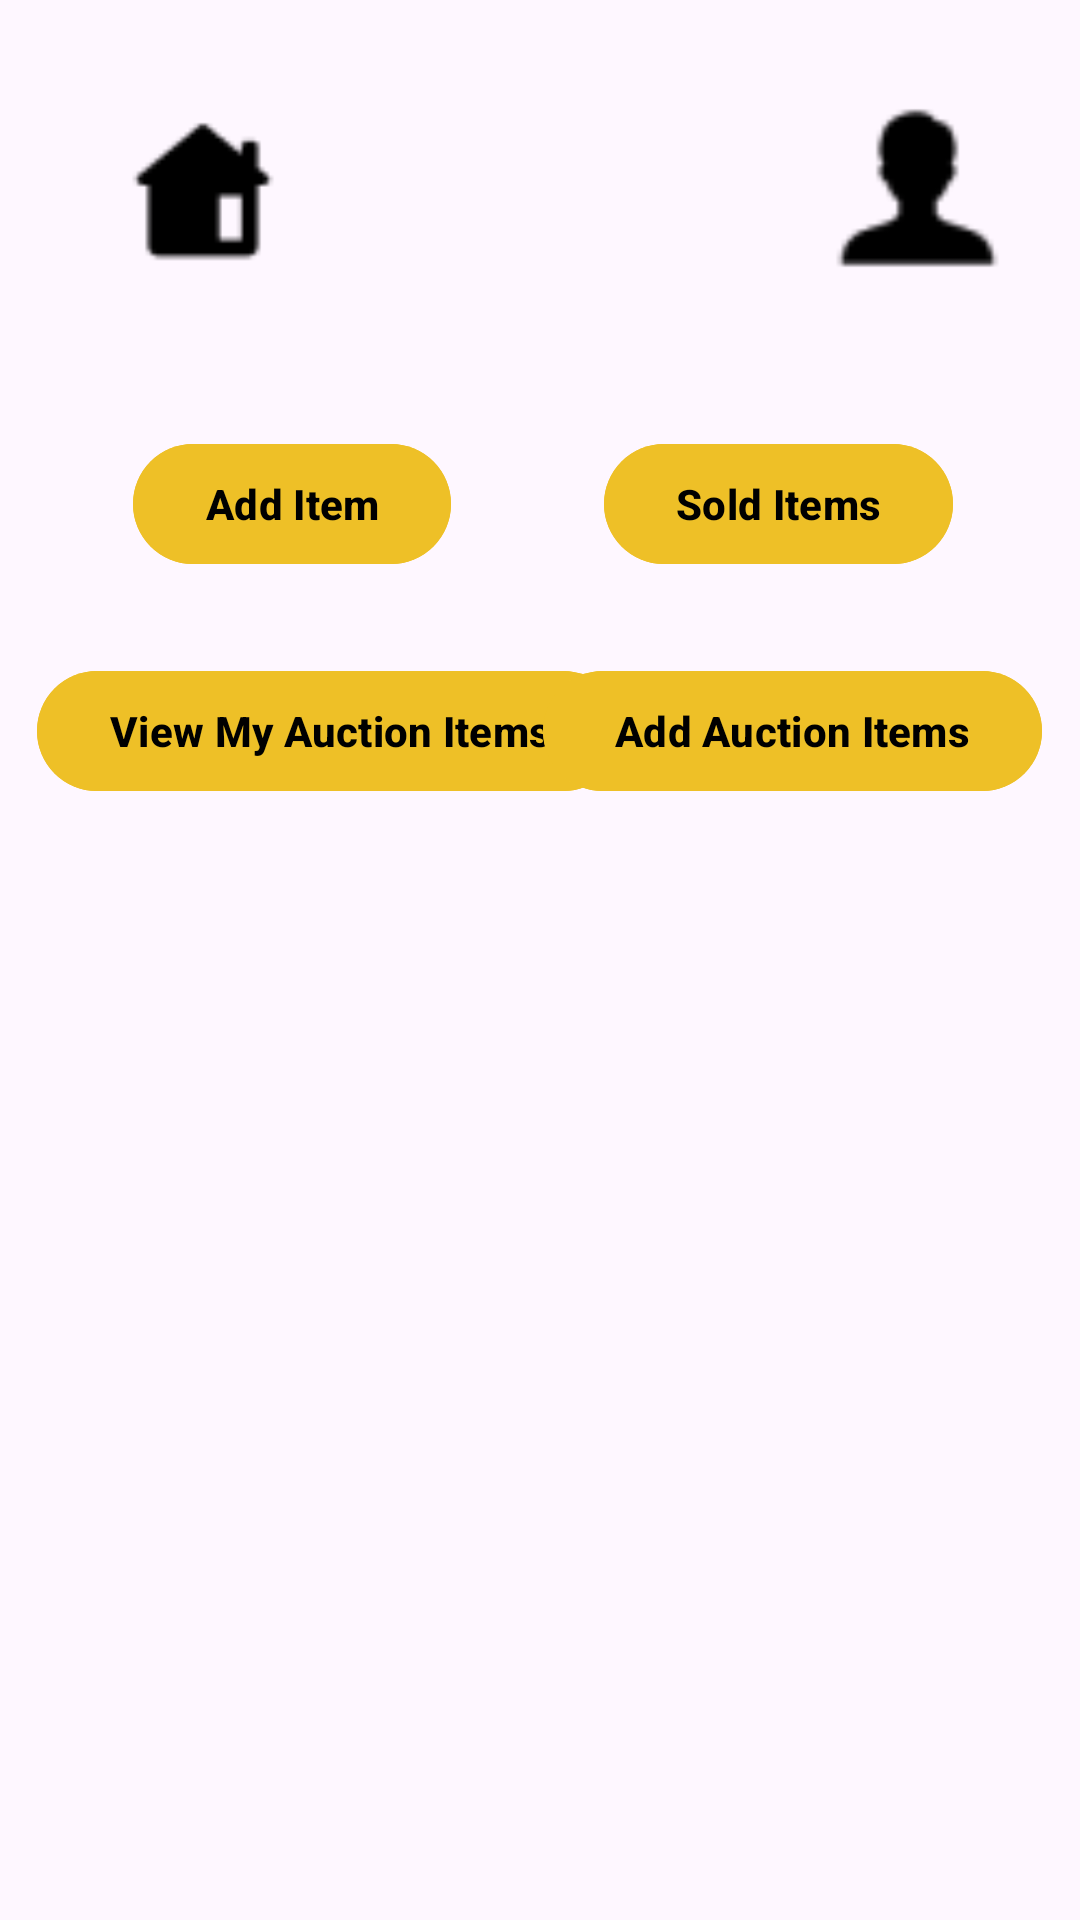

Icons on this 1080*1920 Android screen, each with the point to tap as [x,y]:
home: [203,191]
user male: [917,188]
